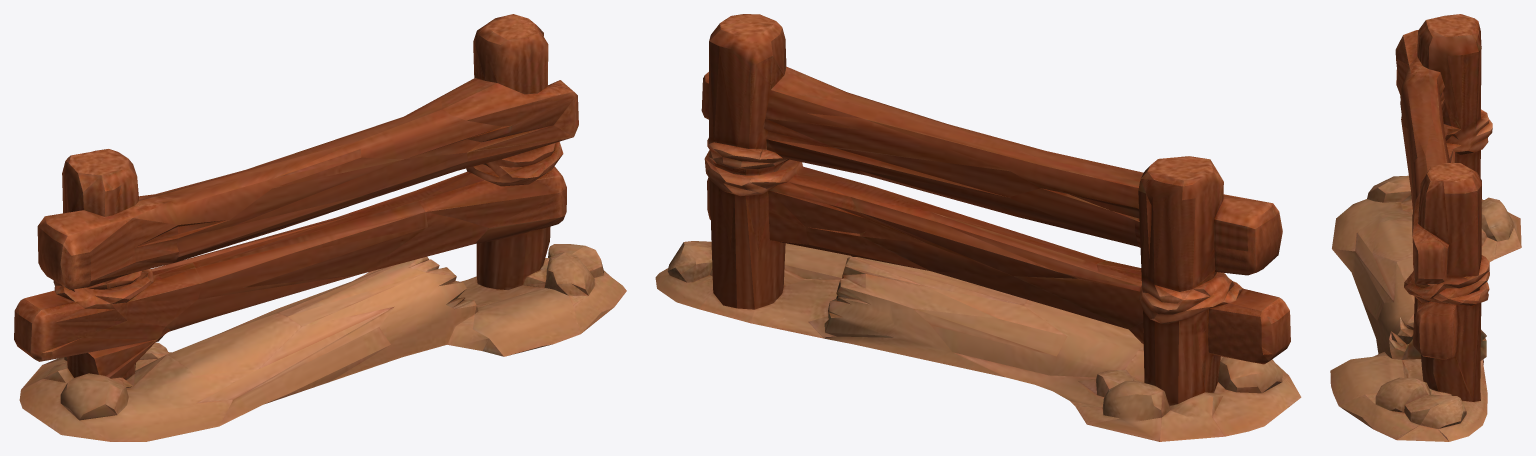
The model's file is west_fence_straight.glb.
3 views of the same model, side by side, from view 1: azimuth 30°, elevation 25°; view 2: azimuth 150°, elevation 25°; view 3: azimuth 270°, elevation 25° (orthographic). The views are drawn at different scales.
Visible parts, largest first — view 1: mesh_node; view 2: mesh_node; view 3: mesh_node.
Part boxes in pixels (x1,y1,x2,y2): mesh_node: (14, 14, 626, 441); mesh_node: (655, 14, 1301, 441); mesh_node: (1330, 14, 1521, 441).
Size of the model in its own units: 1.9 by 0.8157 by 0.6069.
Materials: 1 (1 with a texture image).
